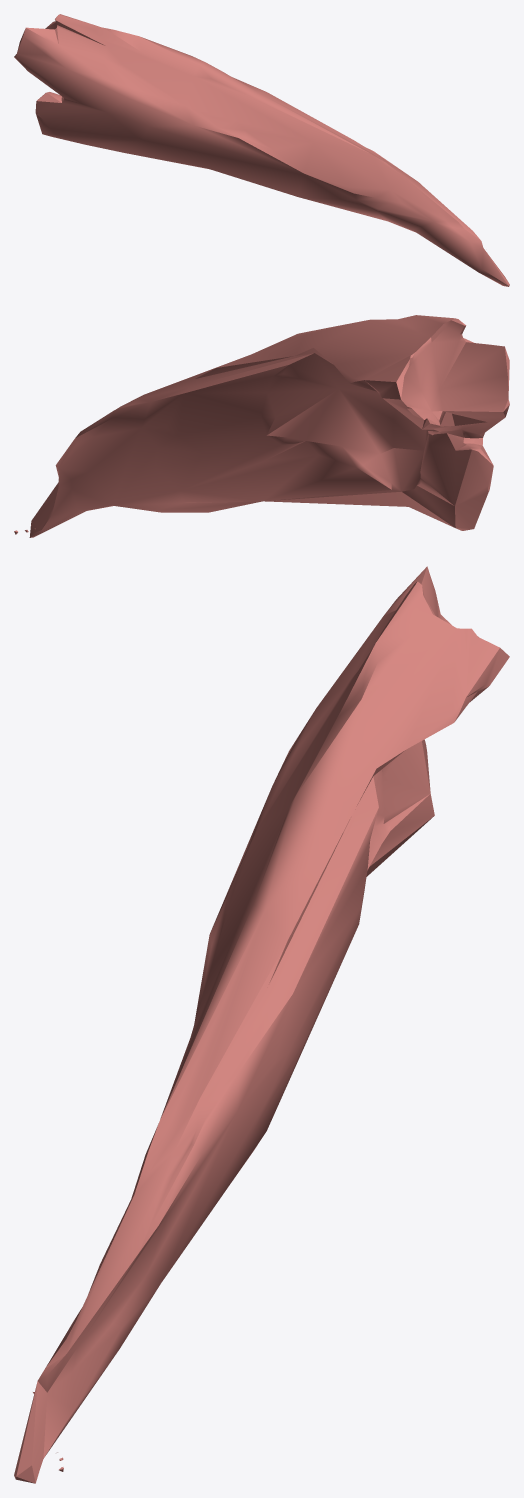
File: fma46122_fj1481m.glb
3 renders of one model, top to bottom at view 1: azimuth 30°, elevation 25°; view 2: azimuth 150°, elevation 25°; view 3: azimuth 270°, elevation 25°, orthographic. The views are drawn at different scales.
Visible parts, largest first — view 1: FMA46122_FJ1481M; view 2: FMA46122_FJ1481M; view 3: FMA46122_FJ1481M.
Part boxes in pixels (x1,y1,x2,y2): FMA46122_FJ1481M: (14, 14, 509, 286); FMA46122_FJ1481M: (14, 315, 509, 537); FMA46122_FJ1481M: (14, 566, 509, 1483).
Bounding box in the file's own units: 0.0428 × 0.03 × 0.0239.
